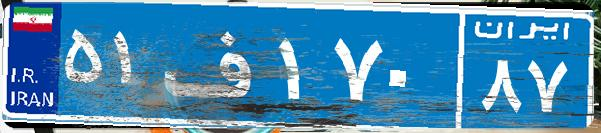0: (385, 28, 445, 110)
1: (273, 28, 330, 110), (110, 28, 158, 105)
5: (57, 26, 110, 107)
7: (330, 28, 385, 110), (525, 38, 570, 115)
8: (475, 38, 525, 113)
ف: (158, 15, 273, 115)
